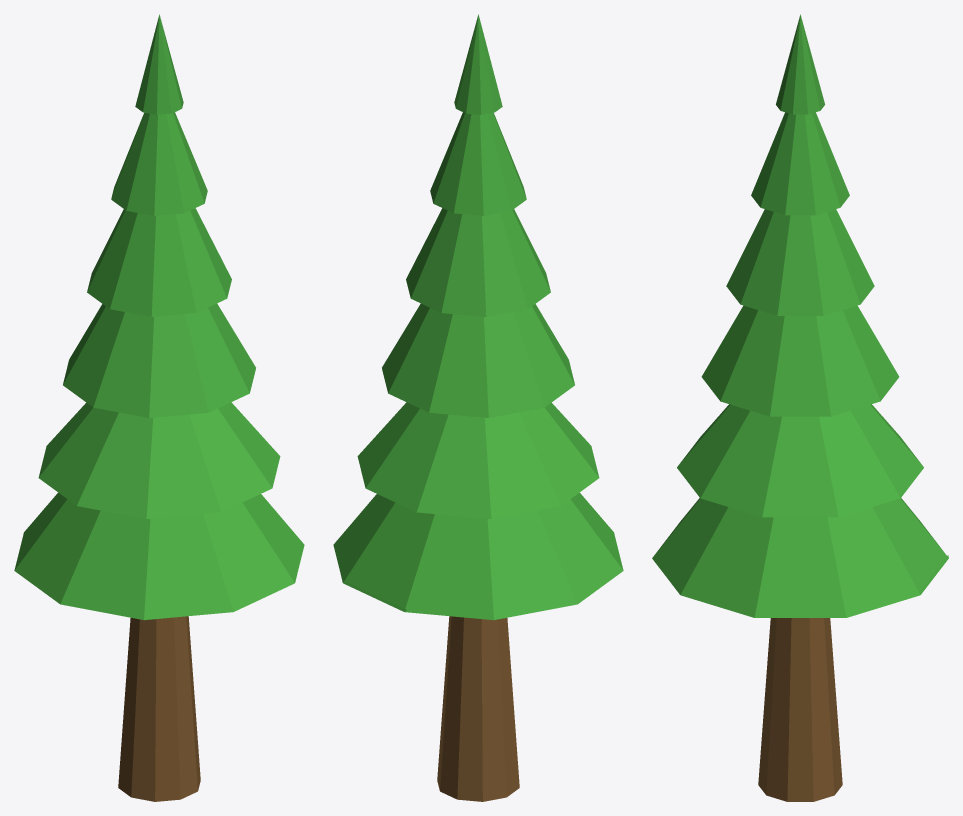
Rendered from sapin-4.glb.
3 renders of one model, left to right at view 1: azimuth 30°, elevation 25°; view 2: azimuth 150°, elevation 25°; view 3: azimuth 270°, elevation 25°, orthographic.
Parts seen in each view (by area): view 1: Tree1.003_Green_0, Tree1.003_Trunk_0; view 2: Tree1.003_Green_0, Tree1.003_Trunk_0; view 3: Tree1.003_Green_0, Tree1.003_Trunk_0.
Boxes of the visible parts, box(x1,y1,x2,y2) form: Tree1.003_Green_0: box(14, 14, 304, 620); Tree1.003_Trunk_0: box(118, 616, 200, 801); Tree1.003_Green_0: box(333, 14, 623, 620); Tree1.003_Trunk_0: box(437, 616, 519, 801); Tree1.003_Green_0: box(652, 14, 948, 617); Tree1.003_Trunk_0: box(758, 618, 842, 801).
Bounding box in the file's own units: 18.42 × 55.46 × 19.36.
